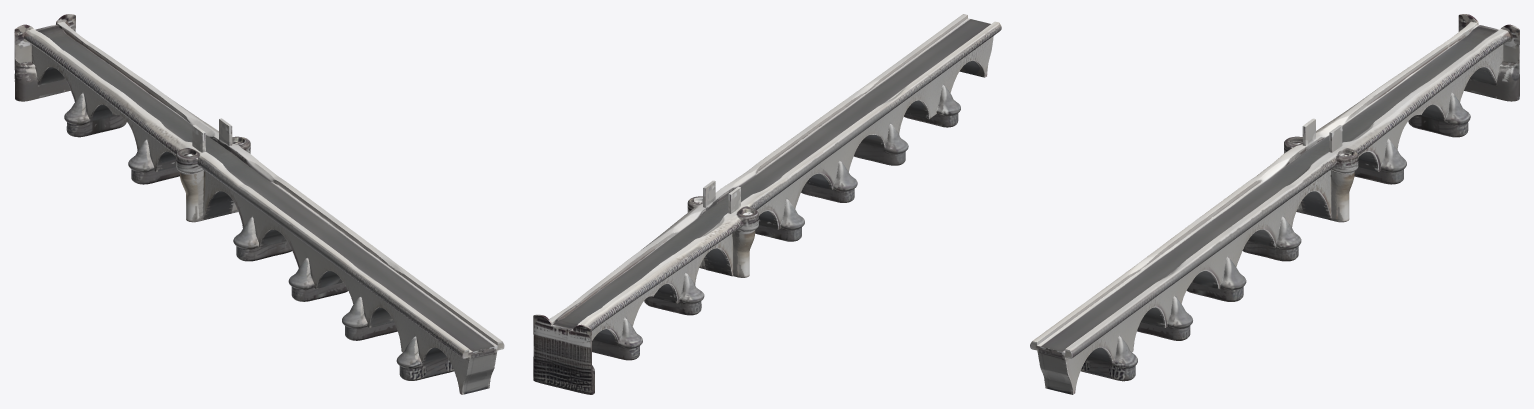
File: base_basic_pbr.fbx
3 renders of one model, left to right at view 1: azimuth 30°, elevation 25°; view 2: azimuth 150°, elevation 25°; view 3: azimuth 330°, elevation 25°, orthographic. The views are drawn at different scales.
Parts seen in each view (by area): view 1: model; view 2: model; view 3: model.
Part boxes in pixels (box(x1,y1,x2,y2)): model: box(14, 14, 504, 394); model: box(533, 14, 1001, 394); model: box(1030, 14, 1519, 394).
Size of the model in its own units: 17.16 by 20.26 by 183.
1 material, 1 textured.
